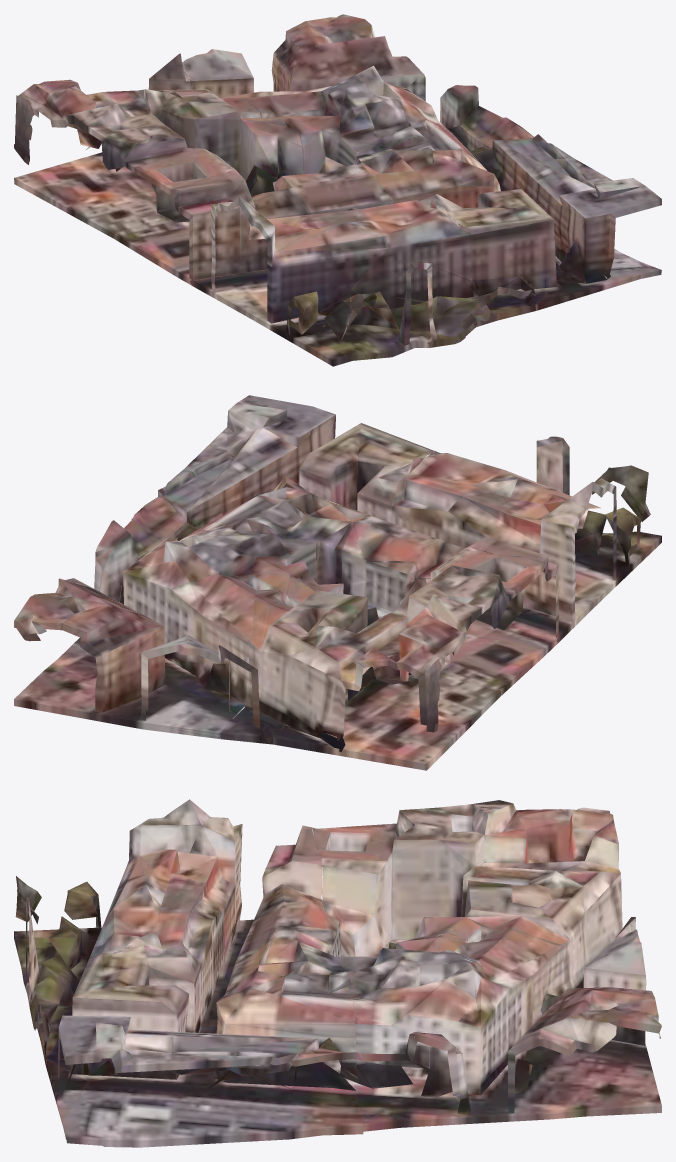
The picture shows the model from 3 angles, top to bottom: view 1: azimuth 30°, elevation 25°; view 2: azimuth 150°, elevation 25°; view 3: azimuth 270°, elevation 25°; orthographic projection. The views are drawn at different scales.
Visible parts, largest first — view 1: Mesh_0; view 2: Mesh_0; view 3: Mesh_0.
Boxes of the visible parts, x1,y1,x2,y2 form: Mesh_0: (14, 14, 661, 366); Mesh_0: (14, 395, 661, 770); Mesh_0: (14, 799, 661, 1147).
Size of the model in its own units: 133 by 42.4 by 165.
Materials: 1 (1 with a texture image).
